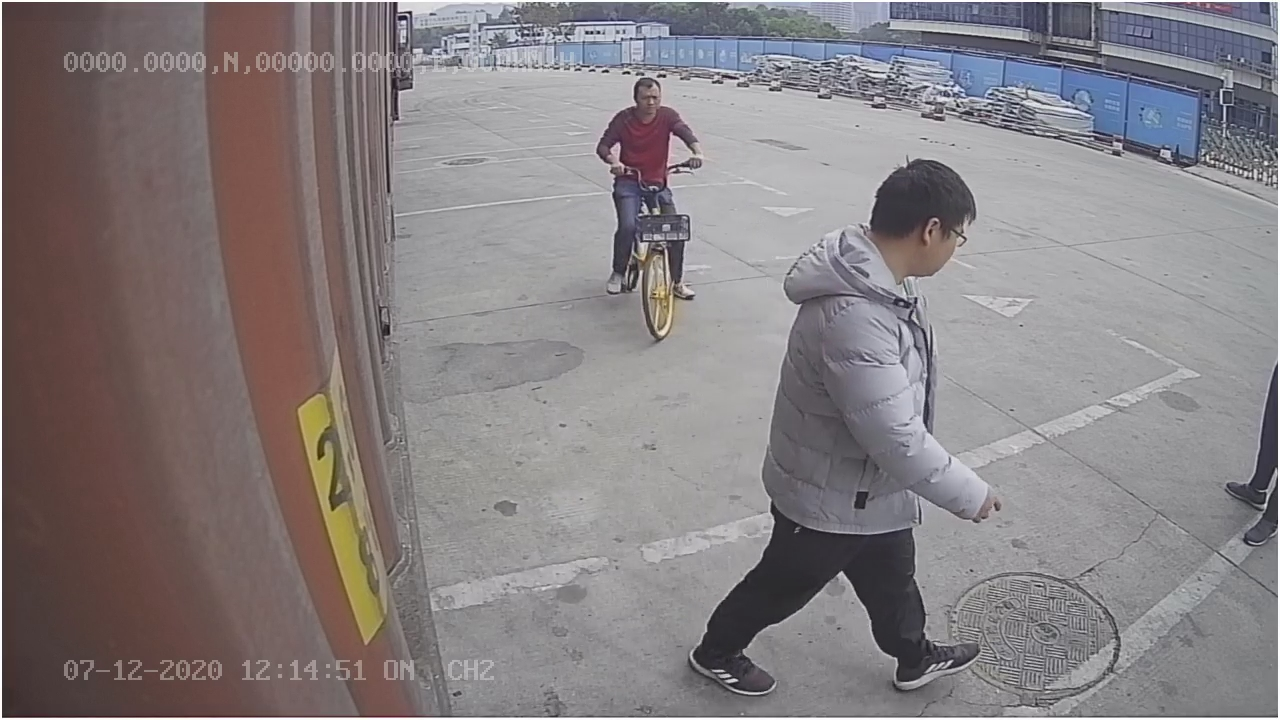person: (684, 149, 1005, 696)
